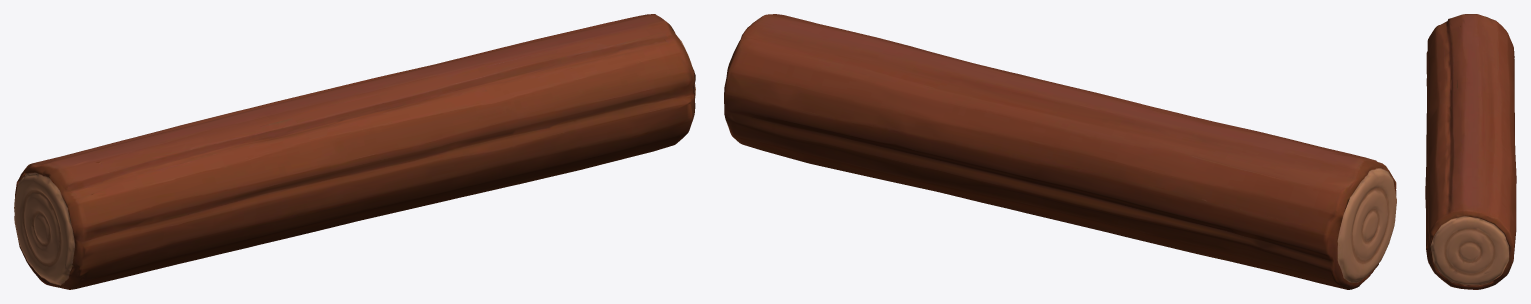
The model's file is log.glb.
3 views of the same model, side by side, from view 1: azimuth 30°, elevation 25°; view 2: azimuth 150°, elevation 25°; view 3: azimuth 270°, elevation 25° (orthographic). The views are drawn at different scales.
Visible parts, largest first — view 1: log; view 2: log; view 3: log.
Part boxes in pixels (x1=…): log: x1=14, y1=14, x2=695, y2=289; log: x1=724, y1=14, x2=1396, y2=289; log: x1=1425, y1=14, x2=1516, y2=289.
Bounding box in the file's own units: 2 × 0.38 × 0.3799.
1 material, 1 textured.
